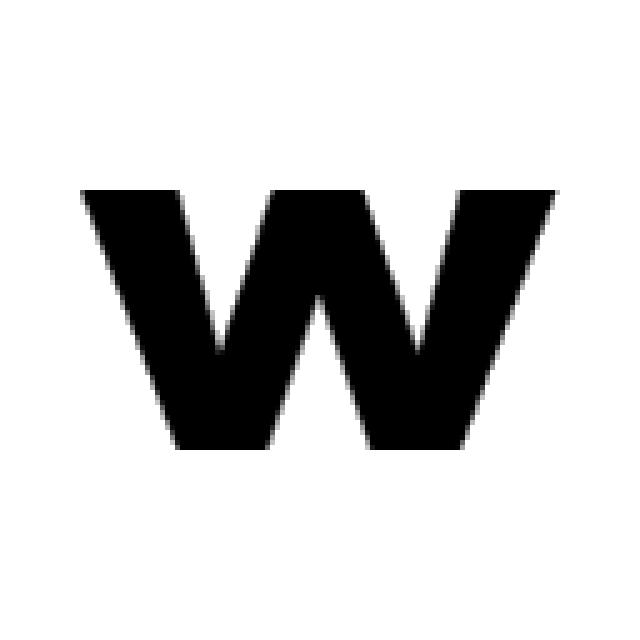W: (70, 170, 560, 455)
